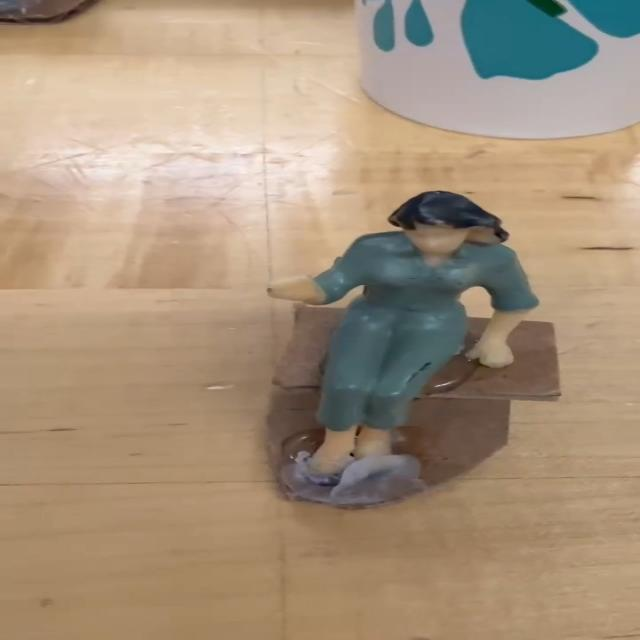Authorized: (258, 184, 544, 505)
